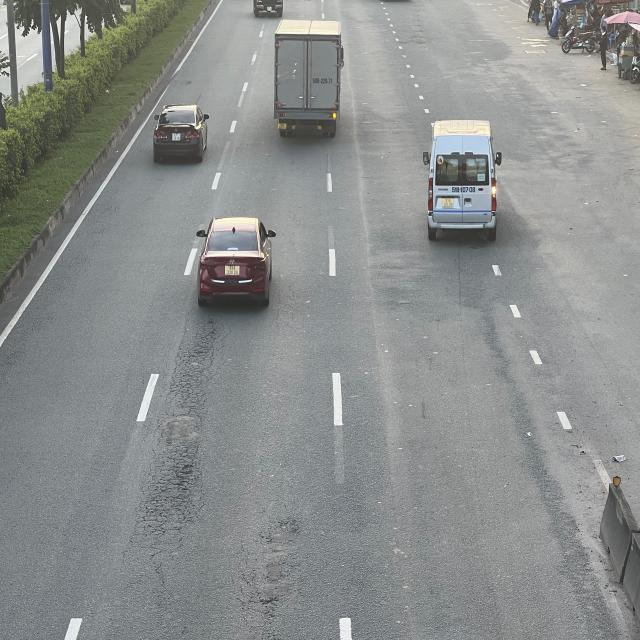car: (195, 214, 275, 308), (152, 104, 208, 163)
truck: (271, 21, 344, 138)
van: (423, 118, 502, 242)
